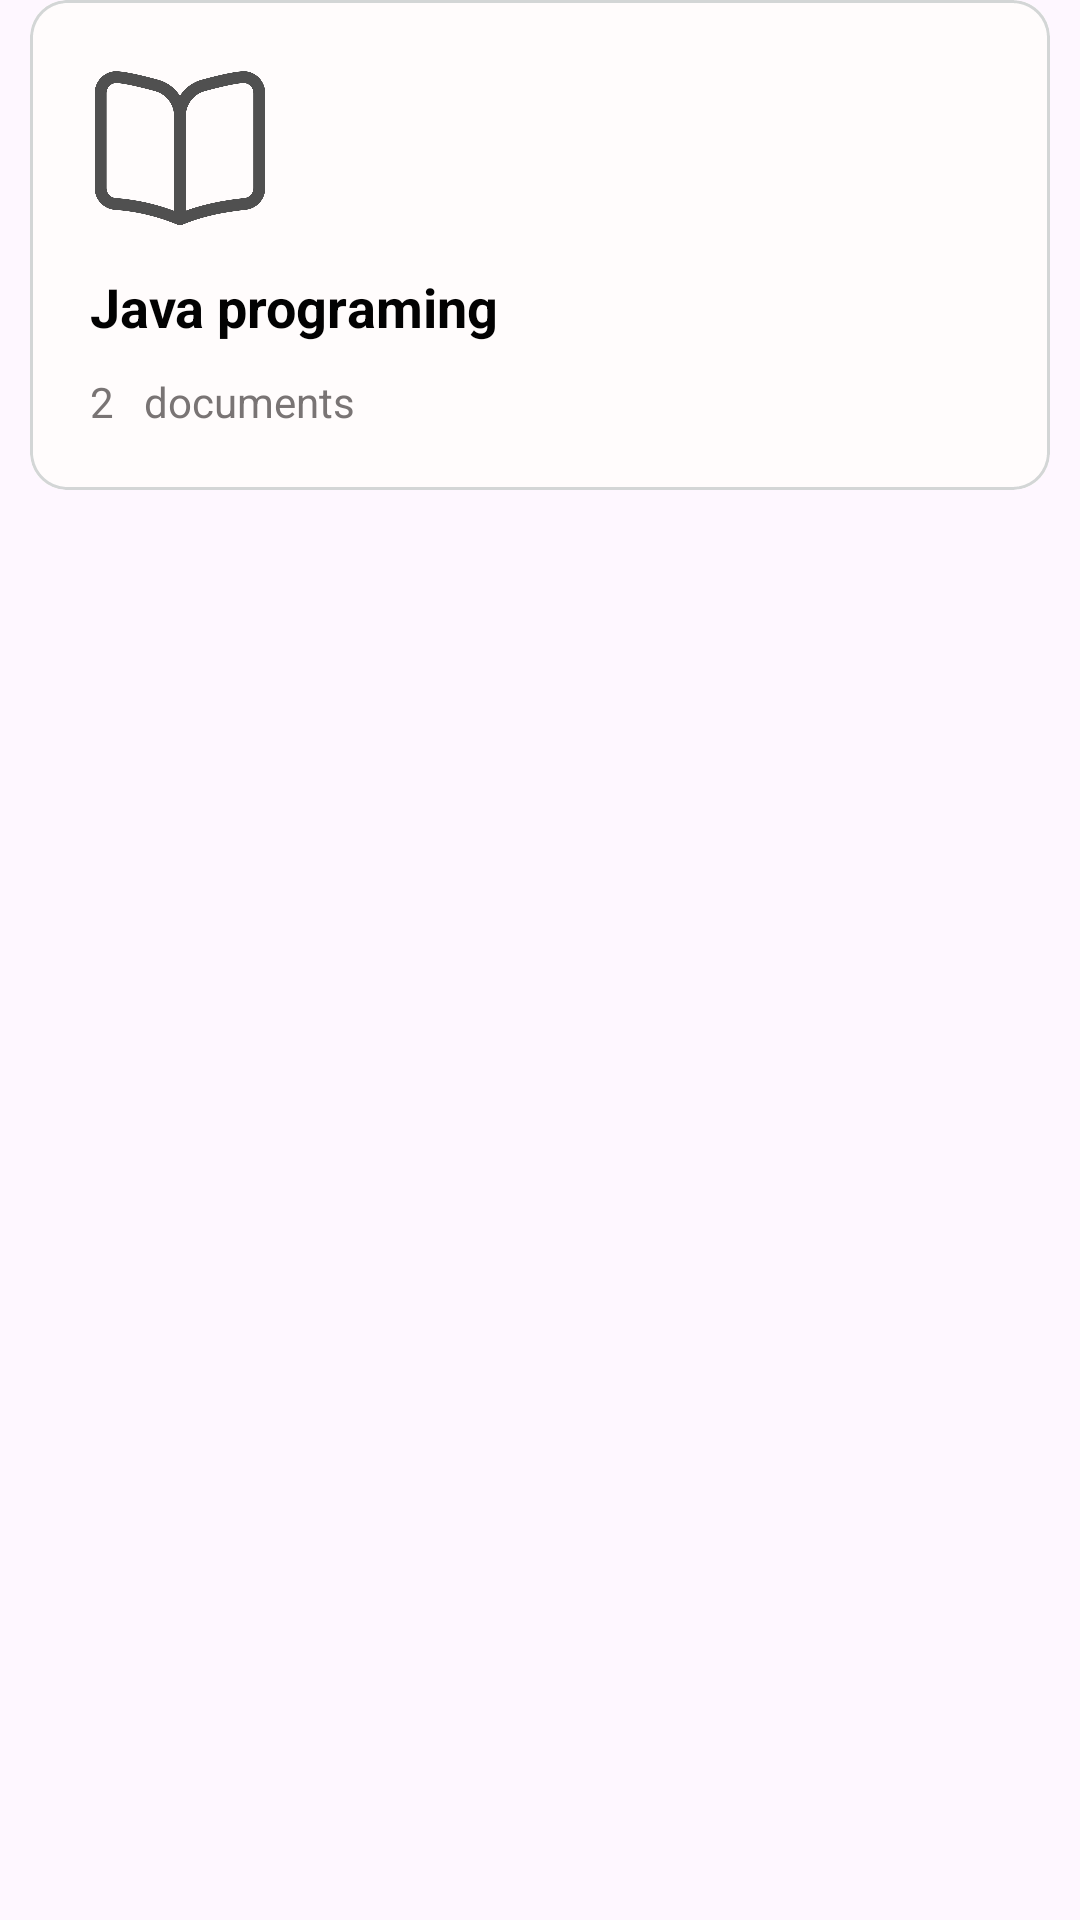

Where to tap for icons on this 1080×1920 app screen, as (x,y):
subject: (180,148)
